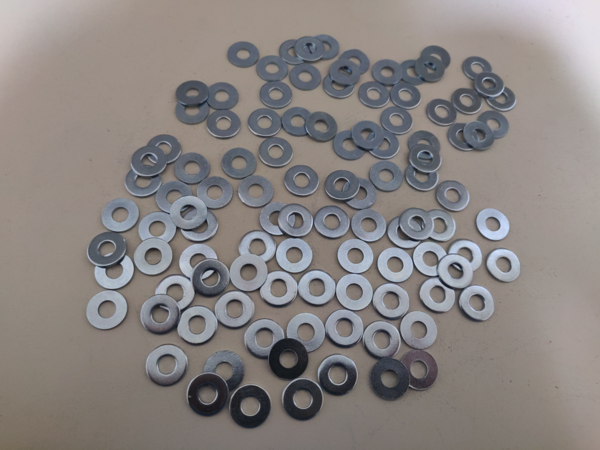circles: (185, 372, 231, 419), (228, 384, 274, 431), (202, 349, 249, 394), (315, 352, 360, 398), (283, 310, 328, 356), (395, 309, 440, 355), (280, 378, 325, 423), (321, 308, 366, 353), (361, 318, 406, 363), (367, 357, 412, 402), (395, 349, 440, 394), (84, 290, 131, 332), (295, 268, 338, 311), (176, 305, 219, 347), (145, 345, 188, 387), (227, 253, 270, 295), (371, 281, 414, 323), (373, 246, 416, 288), (334, 237, 376, 280), (411, 239, 454, 281), (441, 238, 484, 280), (273, 199, 316, 241), (310, 201, 353, 243), (140, 295, 182, 337), (214, 288, 256, 330), (235, 228, 277, 270), (233, 171, 275, 213), (244, 318, 286, 360), (267, 339, 309, 381), (257, 268, 299, 310), (272, 236, 314, 278), (332, 272, 374, 314), (435, 251, 477, 293), (256, 197, 298, 239), (417, 275, 460, 316), (133, 238, 174, 277), (168, 194, 209, 233), (153, 179, 194, 218), (122, 162, 163, 201), (127, 143, 168, 182), (171, 151, 212, 190), (190, 259, 231, 298), (348, 206, 389, 245), (87, 230, 128, 268), (136, 209, 177, 247), (99, 196, 140, 234), (179, 205, 220, 243), (194, 174, 235, 212), (179, 243, 220, 281), (133, 237, 174, 275), (155, 273, 196, 311), (458, 285, 499, 323), (255, 134, 296, 172), (281, 162, 322, 200), (364, 158, 405, 196), (433, 177, 474, 215), (402, 128, 443, 166), (484, 247, 523, 286), (474, 206, 513, 245), (420, 207, 459, 246), (96, 252, 136, 290), (142, 132, 182, 170), (219, 146, 259, 184), (320, 166, 360, 204), (401, 157, 441, 195), (404, 142, 444, 180), (444, 118, 484, 156), (471, 107, 511, 145), (388, 214, 426, 253), (338, 174, 378, 211), (457, 117, 497, 154), (398, 205, 436, 243), (173, 76, 209, 112), (305, 27, 341, 63), (304, 109, 340, 144), (174, 92, 210, 127), (225, 37, 261, 72), (258, 78, 294, 113), (255, 52, 291, 87), (320, 68, 356, 103), (337, 47, 373, 82), (279, 103, 314, 138), (248, 107, 283, 142), (207, 108, 242, 143), (205, 80, 240, 115), (277, 34, 312, 69), (288, 62, 323, 97), (291, 29, 326, 64), (326, 55, 361, 90), (483, 80, 518, 114), (460, 52, 497, 83), (424, 96, 461, 127), (417, 42, 454, 73), (388, 81, 425, 112), (366, 130, 403, 161), (350, 119, 387, 150), (333, 130, 370, 161), (451, 85, 487, 116), (395, 54, 431, 85), (472, 71, 509, 101), (413, 54, 450, 84), (370, 57, 407, 87), (379, 105, 416, 135)
